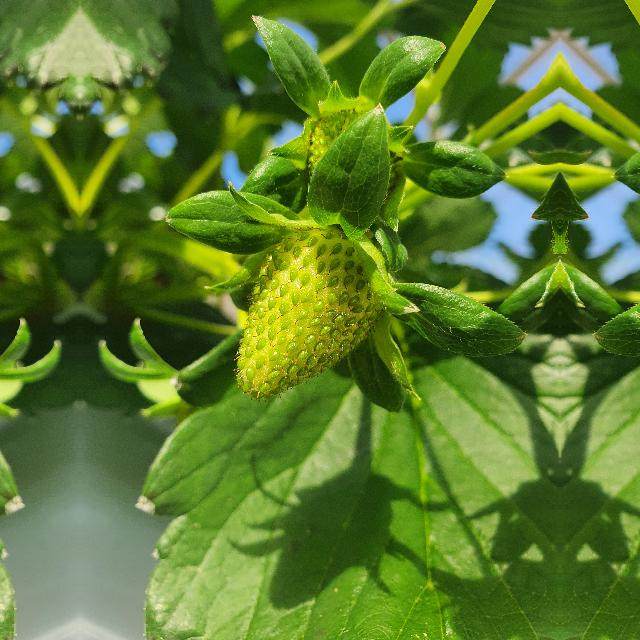Health_25: (236, 228, 378, 400), (296, 98, 388, 190)
